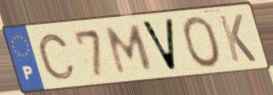7: (72, 27, 105, 79)
C: (37, 32, 78, 82)
K: (216, 13, 259, 65)
M: (104, 23, 155, 77)
O: (180, 14, 224, 70)
V: (138, 17, 179, 74)
